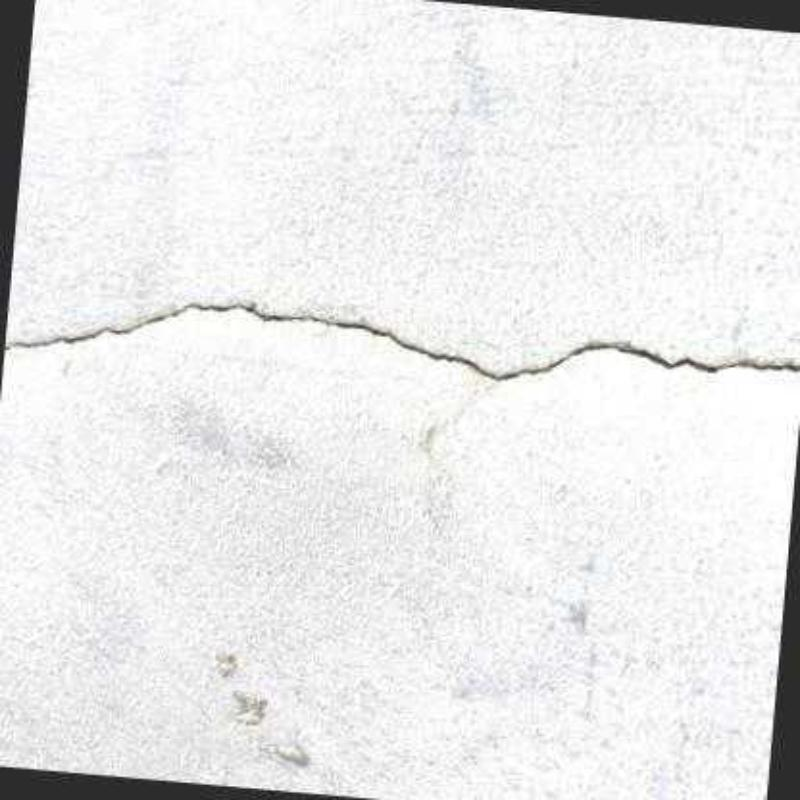crack: (3, 302, 800, 381)
